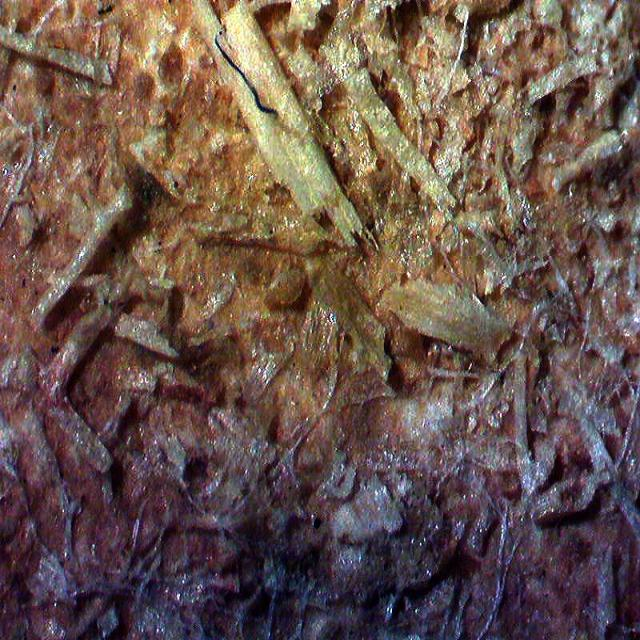microplastic: (215, 34, 277, 114)
